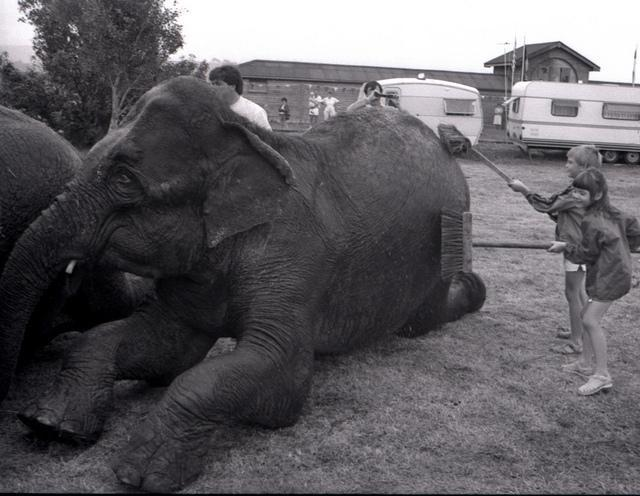truck: (504, 81, 640, 165), (378, 78, 484, 146)
